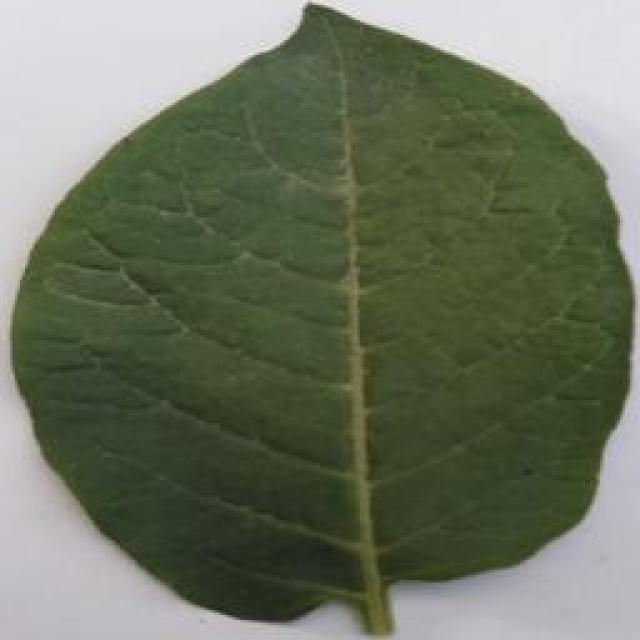Potato_Healthy: (0, 2, 640, 620)
